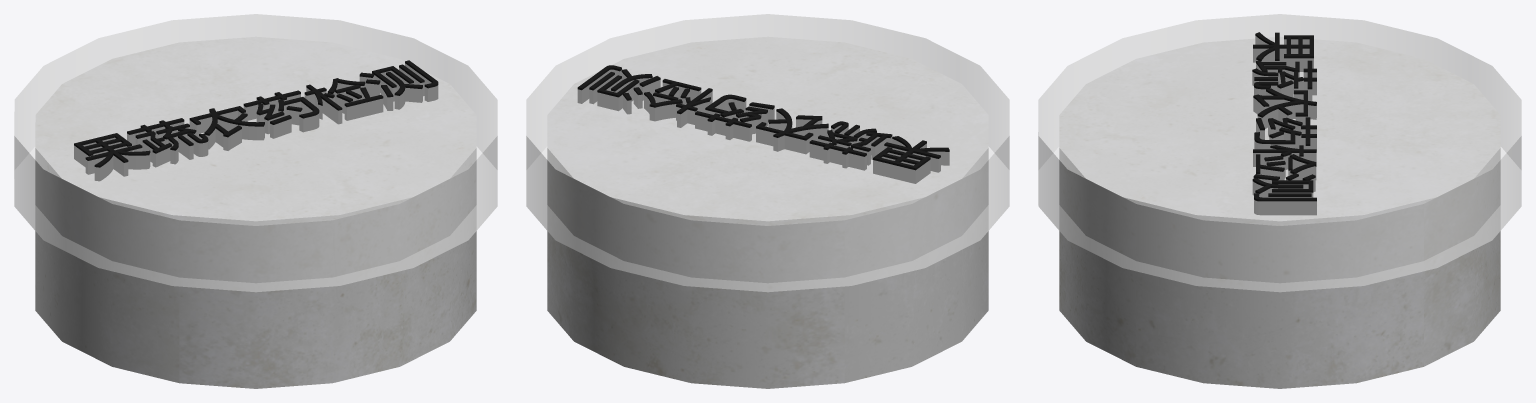
The model's file is SM_上清液瓶_瓶盖.fbx.
3 renders of one model, left to right at view 1: azimuth 30°, elevation 25°; view 2: azimuth 150°, elevation 25°; view 3: azimuth 270°, elevation 25°, orthographic.
Visible parts, largest first — view 1: SM_上清液瓶_瓶盖; view 2: SM_上清液瓶_瓶盖; view 3: SM_上清液瓶_瓶盖.
Boxes of the visible parts, box(x1,y1,x2,y2) form: SM_上清液瓶_瓶盖: box(14, 14, 497, 388); SM_上清液瓶_瓶盖: box(526, 14, 1009, 388); SM_上清液瓶_瓶盖: box(1038, 14, 1521, 388).
Size of the model in its own units: 22.54 by 9.05 by 22.19.
